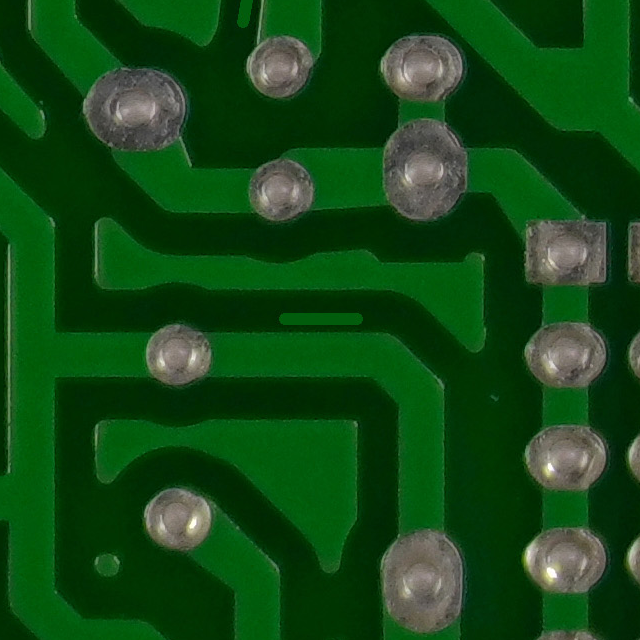spurious_copper: (266, 295, 375, 346), (215, 0, 279, 39)
